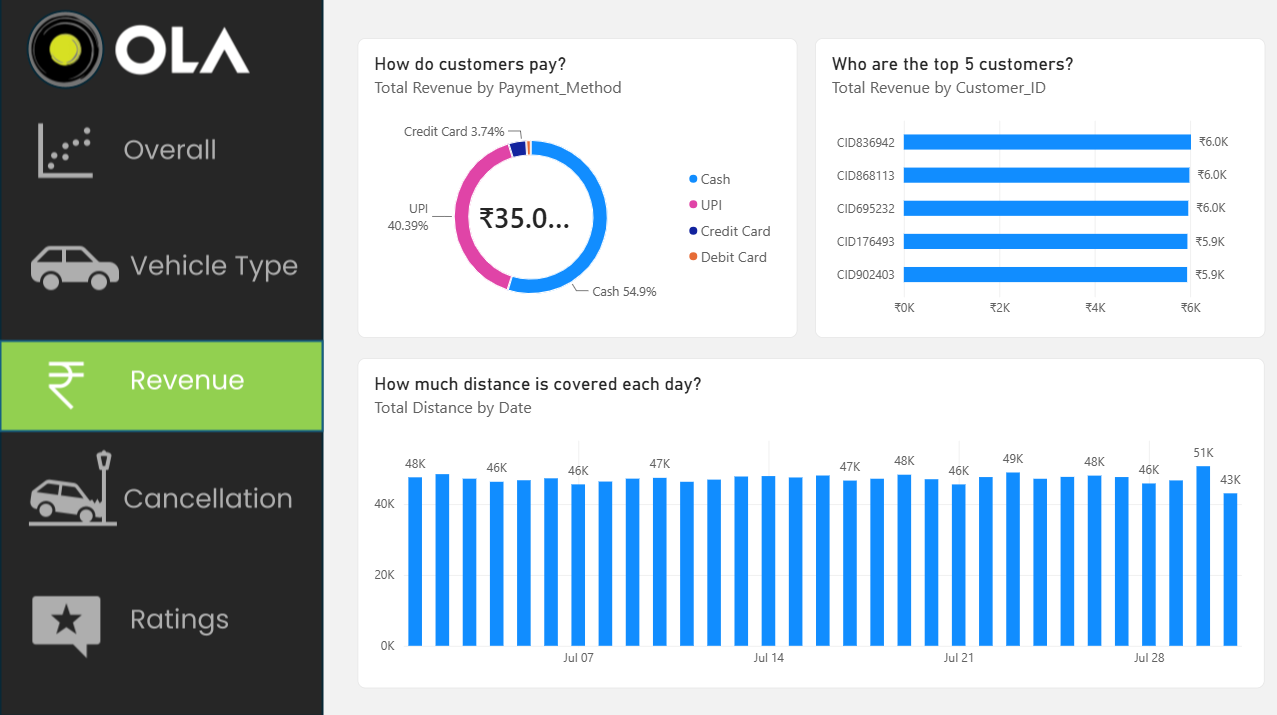

The page's visual inventory and layout, read from the dashboard file:
{"tool":"powerbi","page":{"name":"Revenue","canvas":[1920,1080],"ordinal":2},"visuals":[{"type":"actionButton","title":"Overall","box":[321.4,291.4,322.9,87.1],"z":0},{"type":"actionButton","title":"Vehicle Type","box":[321.4,378.6,322.9,122.9],"z":1},{"type":"actionButton","title":"Revenue","box":[321.4,501.4,322.9,118.6],"z":2},{"type":"actionButton","title":"Cancellation","box":[321.4,620,322.9,118.6],"z":3},{"type":"actionButton","title":"Ratings","box":[321.4,738.6,322.9,115.7],"z":4}]}

Visuals, with their boxes in screenshot pixels (x1, y1, x2, y2), scaled from the page's 1920x1080 canvas onto the 1277x715 screenshot:
"Overall" actionButton: <bbox>214, 193, 429, 251</bbox>
"Vehicle Type" actionButton: <bbox>214, 251, 429, 332</bbox>
"Revenue" actionButton: <bbox>214, 332, 429, 410</bbox>
"Cancellation" actionButton: <bbox>214, 410, 429, 489</bbox>
"Ratings" actionButton: <bbox>214, 489, 429, 566</bbox>
